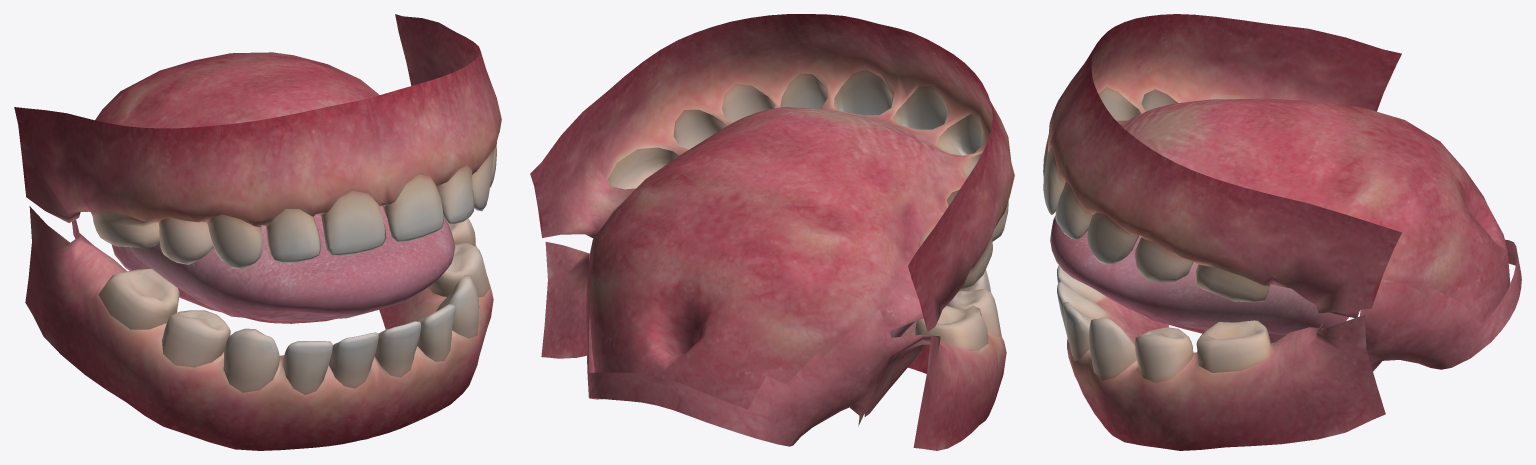
Rendered from mouth_deciduous.glb.
3 views of the same model, side by side, from view 1: azimuth 30°, elevation 25°; view 2: azimuth 150°, elevation 25°; view 3: azimuth 270°, elevation 25° (orthographic). The views are drawn at different scales.
Visible parts, largest first — view 1: upper, lower, tongue, t_85, t_51, t_84, t_83, t_61, t_52, t_53, t_82, t_54 (+9 smaller); view 2: upper, lower, t_85, t_61, t_51, t_65, t_52, t_64, t_63, t_62, t_84, t_55; view 3: upper, lower, tongue, t_75, t_74, t_73, t_63, t_65, t_64, t_62, t_72, t_71 (+4 smaller).
Boxes of the visible parts, x1,y1,x2,y2 form: upper: [14, 14, 501, 226]; lower: [25, 206, 493, 450]; tongue: [111, 206, 455, 323]; t_85: [98, 268, 179, 329]; t_51: [321, 190, 386, 255]; t_84: [162, 310, 230, 367]; t_83: [223, 328, 279, 392]; t_61: [382, 174, 443, 241]; t_52: [266, 208, 320, 262]; t_53: [207, 214, 262, 269]; t_82: [283, 341, 332, 394]; t_54: [159, 217, 213, 264]; upper: [530, 14, 1014, 409]; lower: [541, 242, 1006, 450]; t_85: [915, 305, 988, 350]; t_61: [834, 69, 892, 115]; t_51: [892, 85, 948, 129]; t_65: [607, 147, 678, 189]; t_52: [937, 113, 983, 155]; t_64: [673, 109, 725, 149]; t_63: [721, 83, 775, 122]; t_62: [780, 73, 827, 109]; t_84: [947, 289, 1001, 337]; t_55: [918, 223, 992, 289]; upper: [1047, 14, 1510, 324]; lower: [1067, 239, 1521, 450]; tongue: [1050, 216, 1393, 343]; t_75: [1196, 320, 1271, 372]; t_74: [1135, 327, 1193, 383]; t_73: [1088, 316, 1136, 380]; t_63: [1087, 212, 1138, 264]; t_65: [1195, 264, 1269, 302]; t_64: [1134, 237, 1193, 282]; t_62: [1055, 181, 1092, 239]; t_72: [1062, 302, 1092, 361]; t_71: [1057, 281, 1107, 342].
Bounding box in the file's own units: 0.9175 × 0.7666 × 1.02.
Materials: 1 (1 with a texture image).
